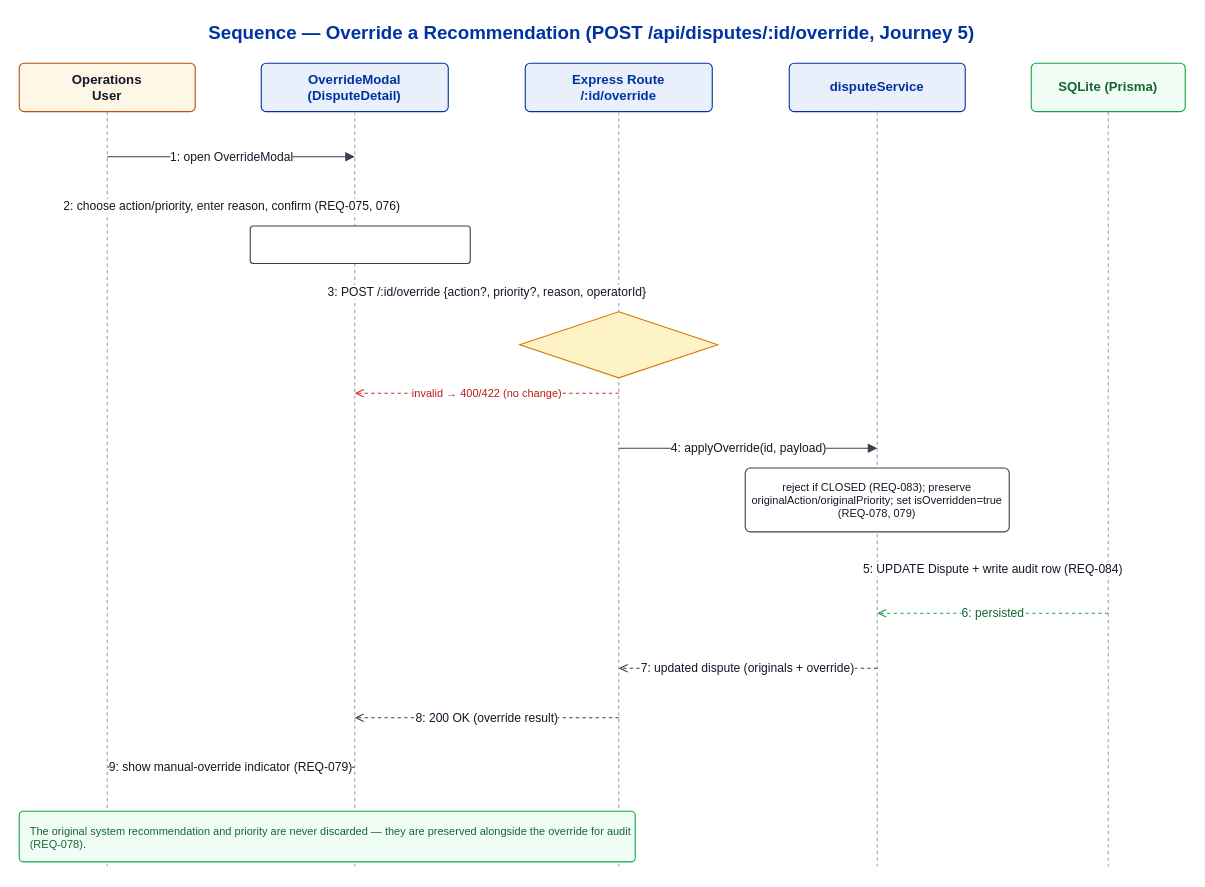
Some shapes in this 1205 by 887 pixel diagram are drawn without their labels. The centre of each missing label's shape, as x and y in pixels:
"client check: reason 10–300, ≥1 field set" goes at (x=359, y=244).
"validate reason 10–300 & ≥1 field (REQ-077)" goes at (x=618, y=344).
